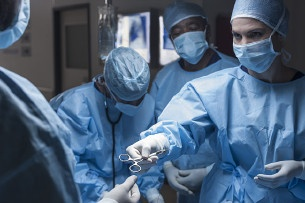Mask: (231, 26, 275, 70)
